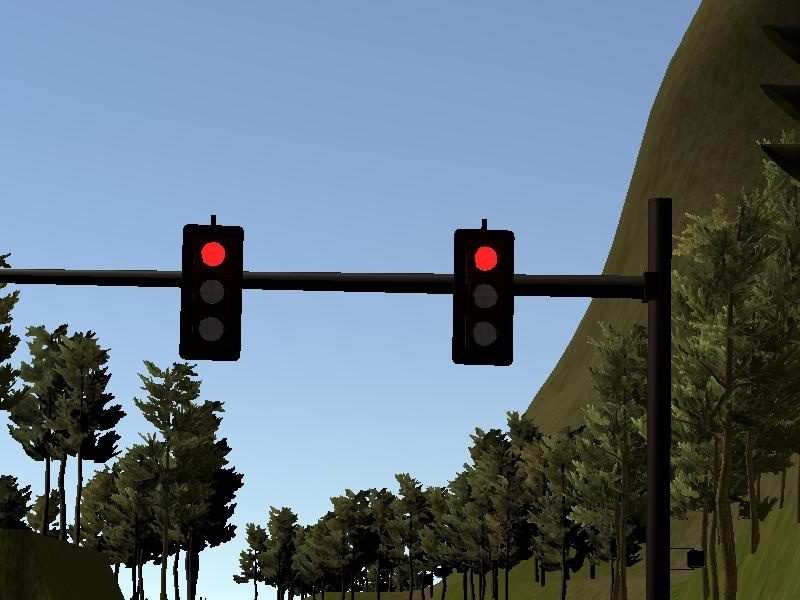RED: (451, 229, 515, 363), (179, 225, 243, 359)
